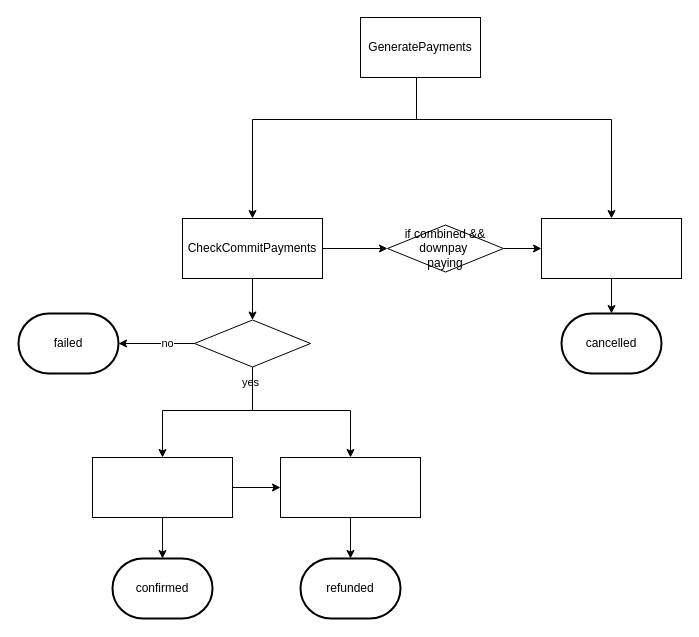
Some shapes in this 699 by 637 pixel diagram are drawn without their labels. The box of each missing label's shape, as (x1, y1, x2, y2) in pixels:
CancelPayments: (540, 218, 682, 278)
ConfirmPayment: (92, 456, 232, 518)
RefundPayment: (280, 456, 420, 518)
success?: (194, 319, 310, 367)
